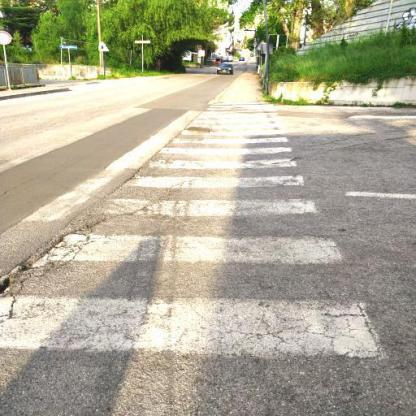crosswalk: (80, 171, 326, 221), (168, 128, 293, 148)
